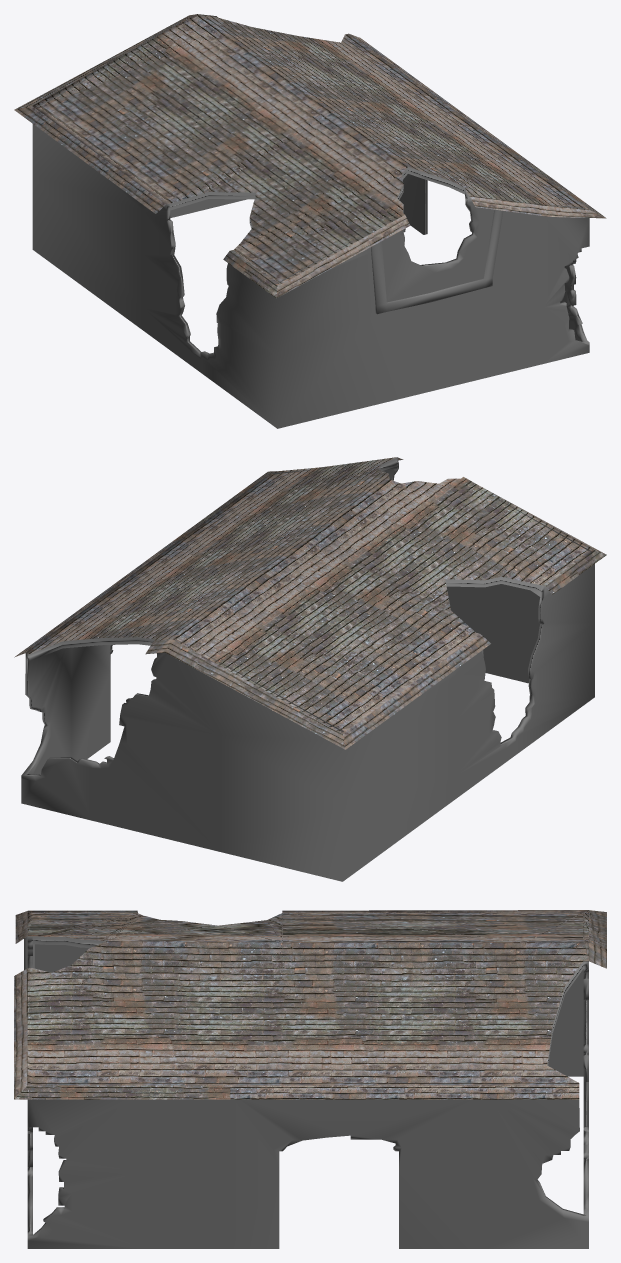
The model's file is Ruin2_lod01.fbx.
3 renders of one model, top to bottom at view 1: azimuth 30°, elevation 25°; view 2: azimuth 150°, elevation 25°; view 3: azimuth 270°, elevation 25°, orthographic. The views are drawn at different scales.
Parts seen in each view (by area): view 1: Default_Layer; view 2: Default_Layer; view 3: Default_Layer.
Boxes of the visible parts, x1=… form: Default_Layer: x1=14, y1=14, x2=606, y2=428; Default_Layer: x1=14, y1=457, x2=606, y2=881; Default_Layer: x1=14, y1=910, x2=606, y2=1248.
Bounding box in the file's own units: 1364 × 767 × 1830.
